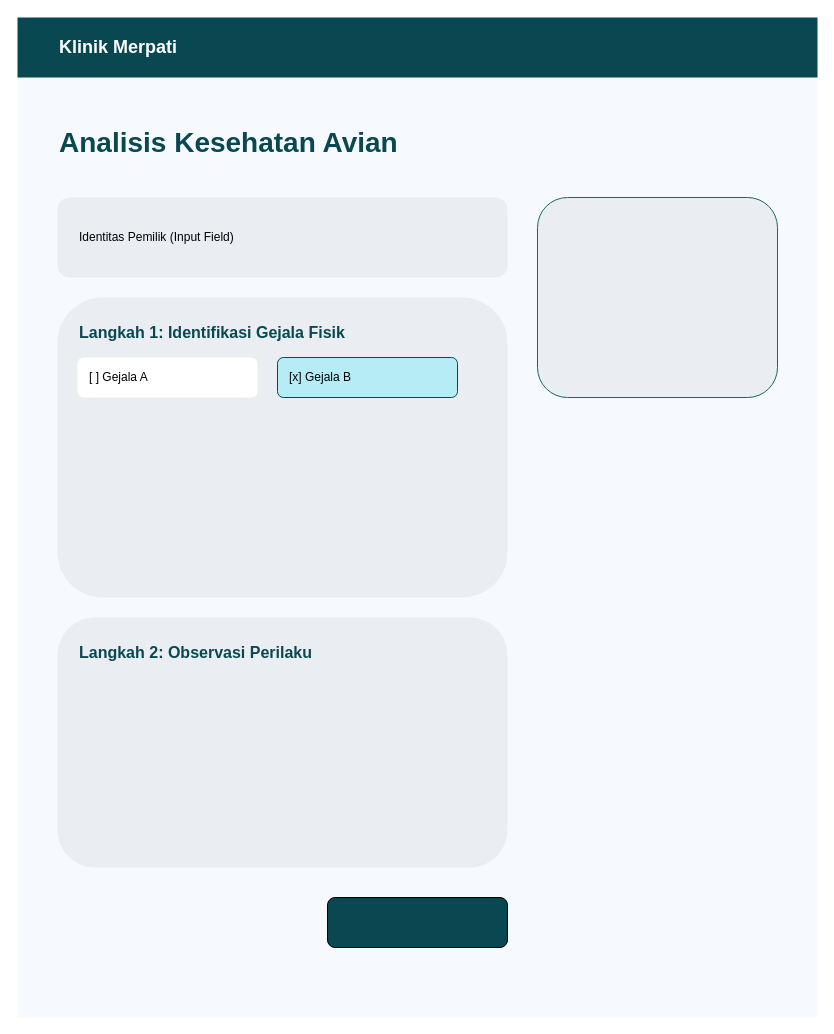
Some shapes in this 834 by 1034 pixel diagram are drawn without their labels. The box of each missing label's shape, as (x1, y1, x2, y2) in pixels:
Diagnosa Sekarang: (326, 896, 508, 948)
Informasi Diagnosa: Forward Chaining: (536, 196, 778, 398)
